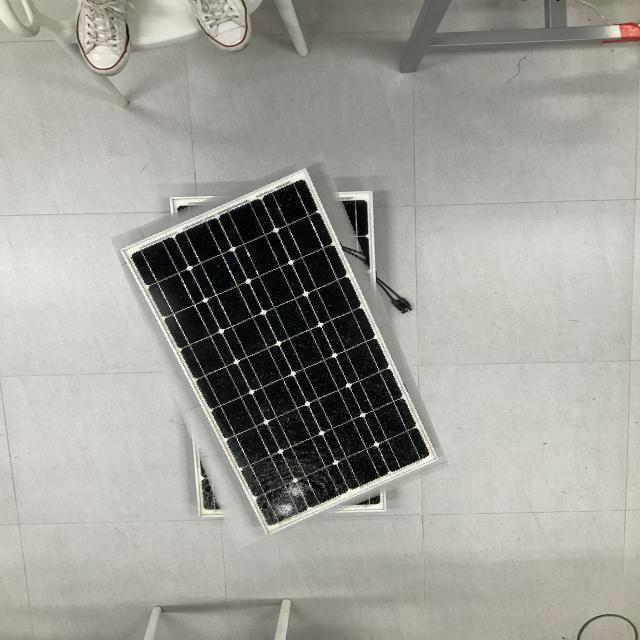Photovoltaic-Panel: (112, 154, 440, 554)
